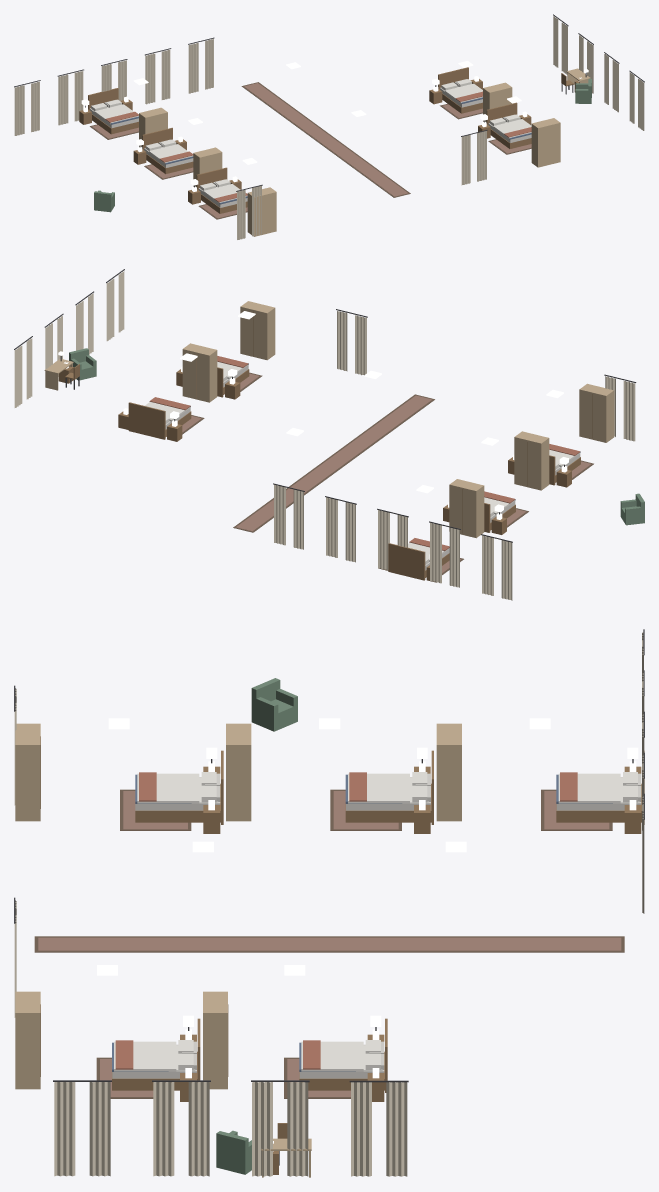
The model's file is fine-s1.glb.
3 renders of one model, top to bottom at view 1: azimuth 30°, elevation 25°; view 2: azimuth 150°, elevation 25°; view 3: azimuth 270°, elevation 25°, orthographic. The views are drawn at different scales.
Parts seen in each view (by area): view 1: soft-s1, dresser.001, dresser.004, bed-frame.003, bed-frame.002, bed-frame.001, bed-frame.000, bed-frame.004, dresser.003, dresser.002, dresser.000, lounge-chair.001 (+1 smaller); view 2: soft-s1, dresser.003, dresser.004, dresser.002, dresser.000, dresser.001, bed-frame.000, bed-frame.002, lounge-chair.001, lounge-chair.000, writing-desk.000; view 3: soft-s1, dresser.001, dresser.002, dresser.003, dresser.004, dresser.000, lounge-chair.001, bed-frame.004, bed-frame.003, bed-frame.002, bed-frame.001, bed-frame.000 (+1 smaller).
Boxes of the visible parts, x1,y1,x2,y2 form: soft-s1: (14, 14, 644, 239); dresser.001: (531, 118, 560, 167); dresser.004: (247, 187, 276, 236); bed-frame.003: (142, 127, 193, 174); bed-frame.002: (88, 88, 138, 134); bed-frame.001: (486, 102, 531, 148); bed-frame.000: (438, 67, 482, 113); bed-frame.004: (196, 167, 247, 213); dresser.003: (193, 147, 222, 186); dresser.002: (139, 107, 167, 146); dresser.000: (483, 82, 512, 122); lounge-chair.001: (94, 190, 114, 212); soft-s1: (14, 269, 636, 600); dresser.003: (514, 431, 549, 490); dresser.004: (579, 383, 614, 442); dresser.002: (449, 479, 484, 538); dresser.000: (182, 343, 217, 402); dresser.001: (240, 301, 275, 360); bed-frame.000: (128, 402, 191, 439); bed-frame.002: (388, 543, 449, 580); lounge-chair.001: (620, 493, 644, 525); lounge-chair.000: (69, 348, 96, 380); writing-desk.000: (44, 351, 73, 390); soft-s1: (14, 629, 644, 1176); dresser.001: (15, 991, 40, 1089); dresser.002: (436, 723, 461, 821); dresser.003: (226, 723, 251, 821); dresser.004: (15, 723, 40, 821); dresser.000: (203, 991, 228, 1089); lounge-chair.001: (251, 678, 297, 731); bed-frame.004: (135, 750, 223, 824); bed-frame.003: (345, 750, 433, 824); bed-frame.002: (556, 751, 644, 824); bed-frame.001: (112, 1018, 200, 1090); bed-frame.000: (299, 1018, 387, 1092).
Size of the model in its own units: 26.23 by 2.59 by 15.
